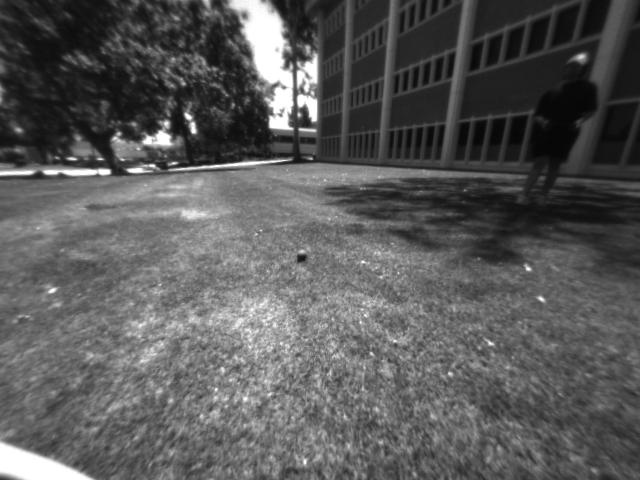dogtoy: (289, 240, 316, 264)
